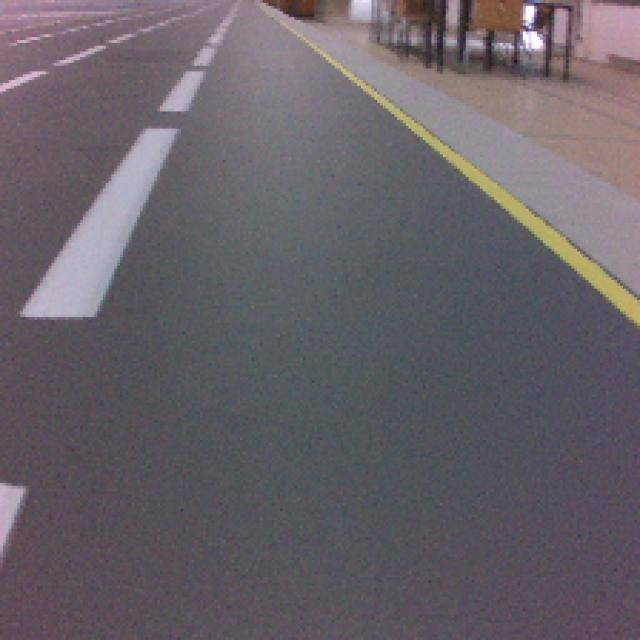Road: (0, 285, 640, 640)
